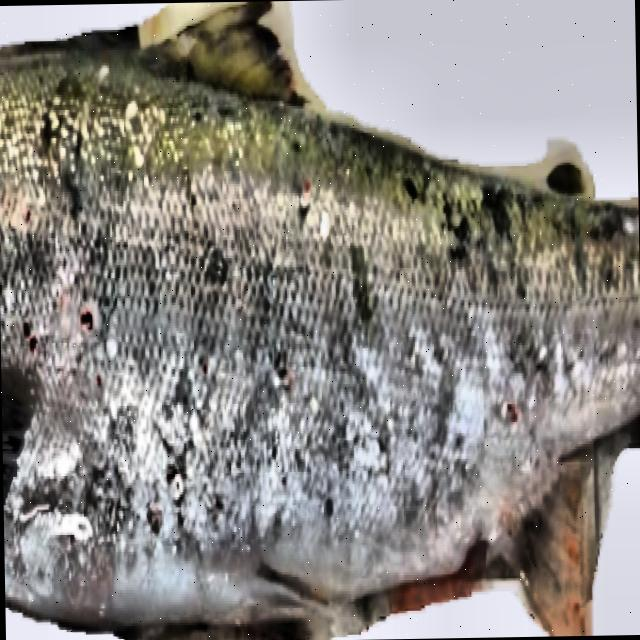mild_red: (0, 59, 640, 635)
wound: (387, 548, 485, 611)
